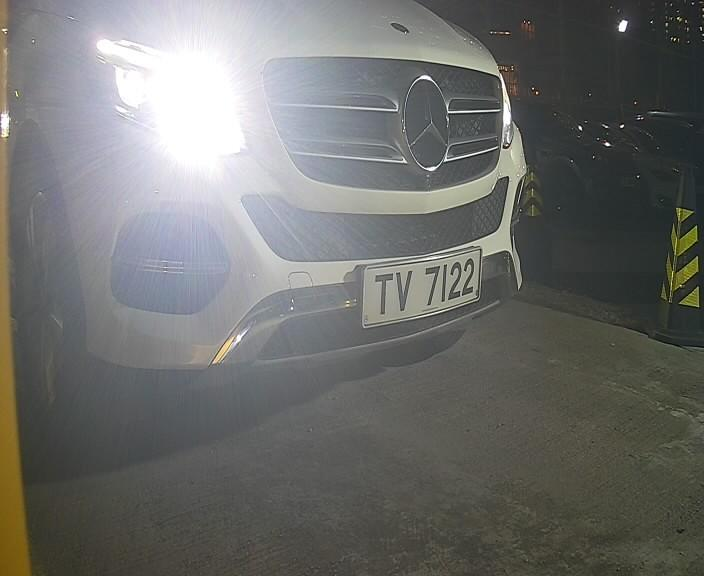privatecar: (2, 1, 554, 384)
